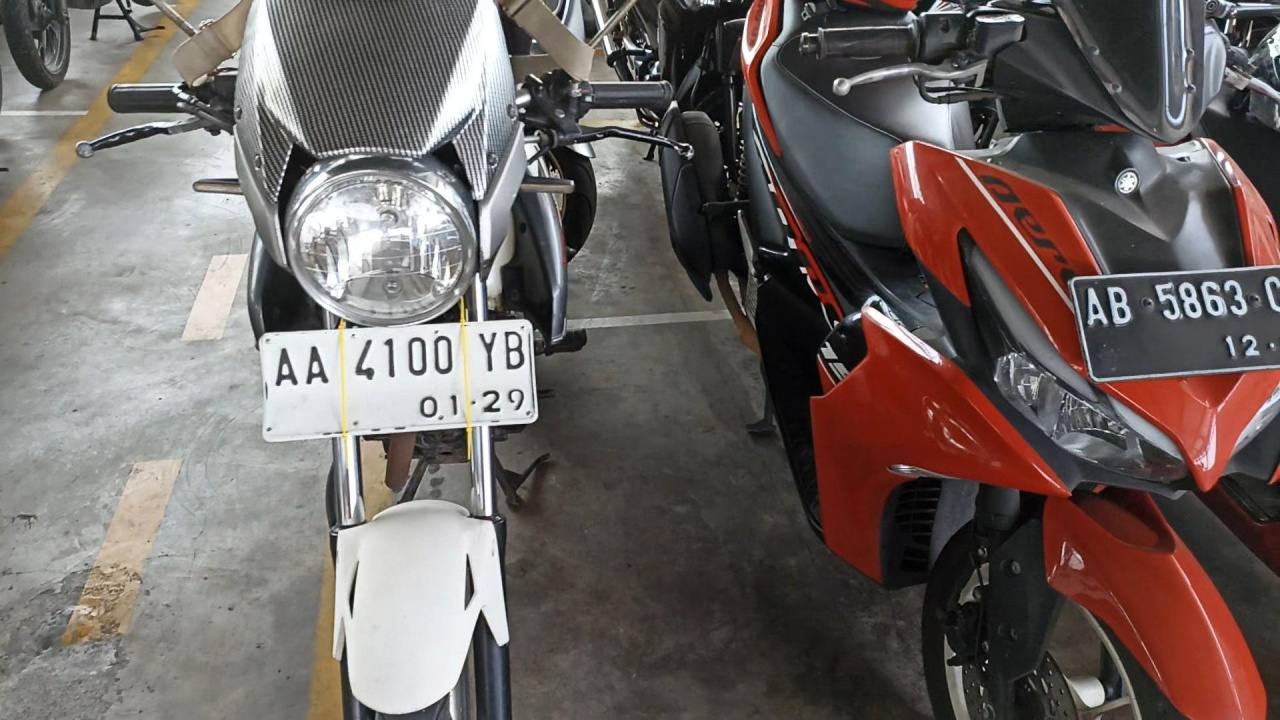plate: (260, 320, 538, 445)
